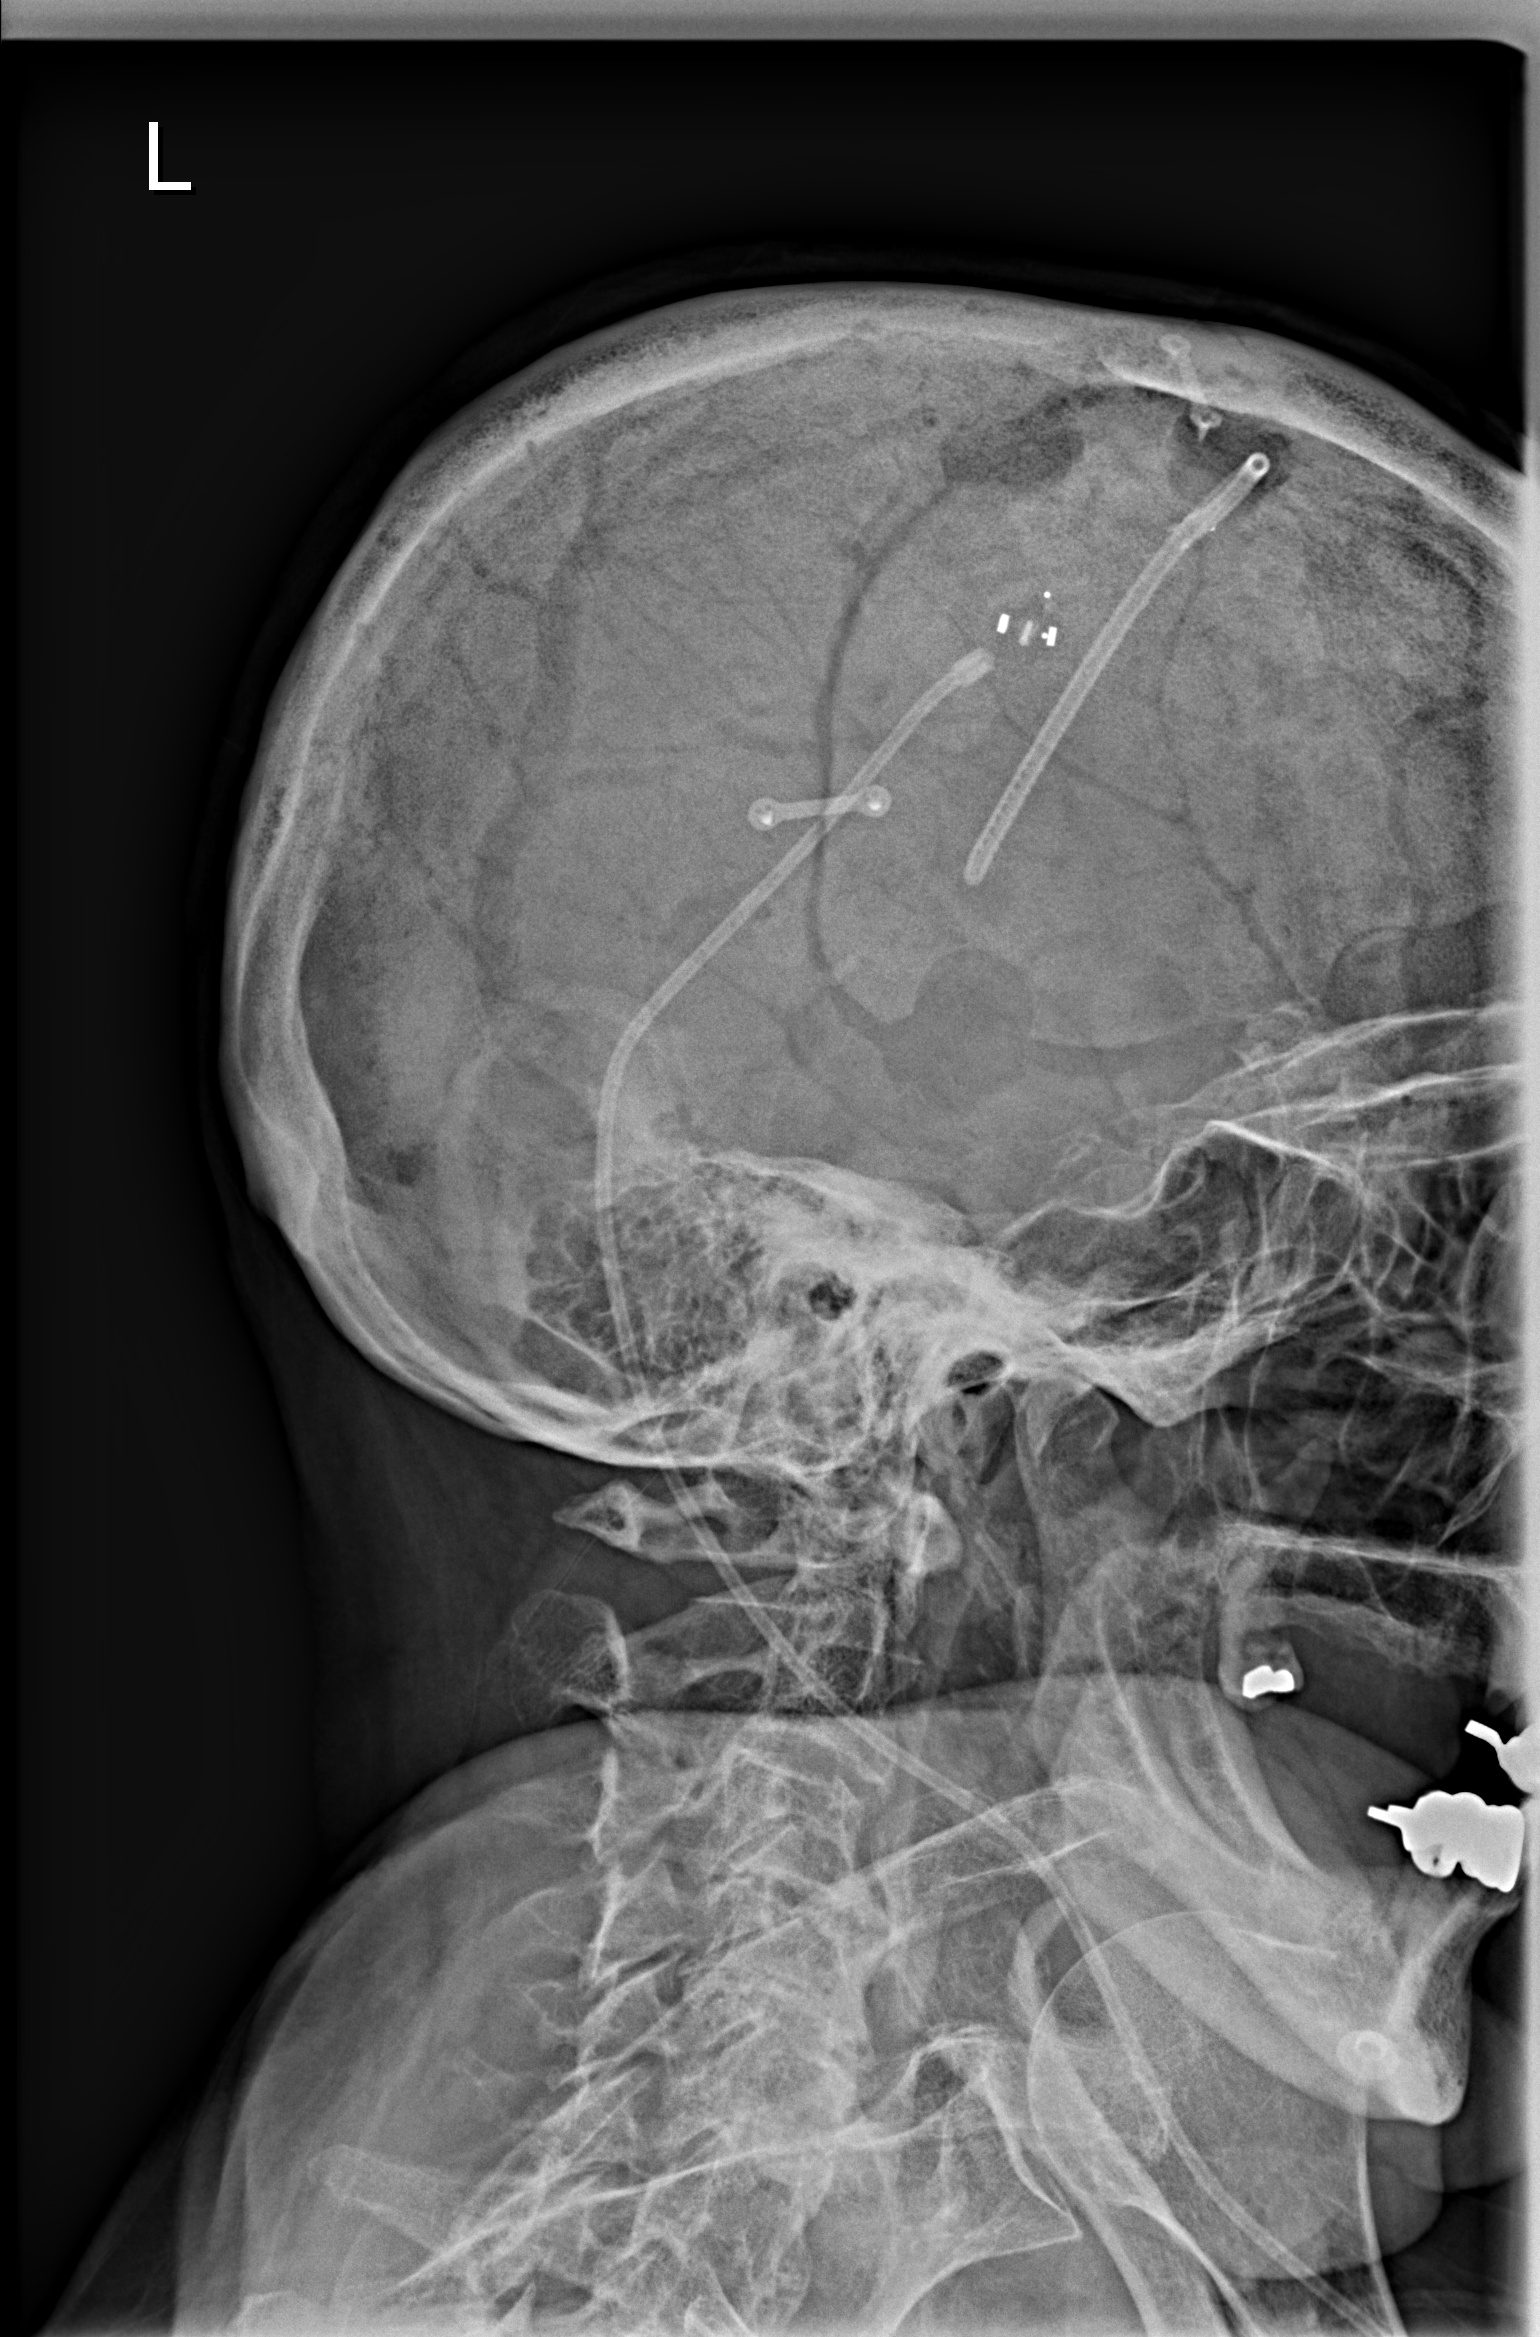Codman Certas: (976, 572, 1085, 682)
